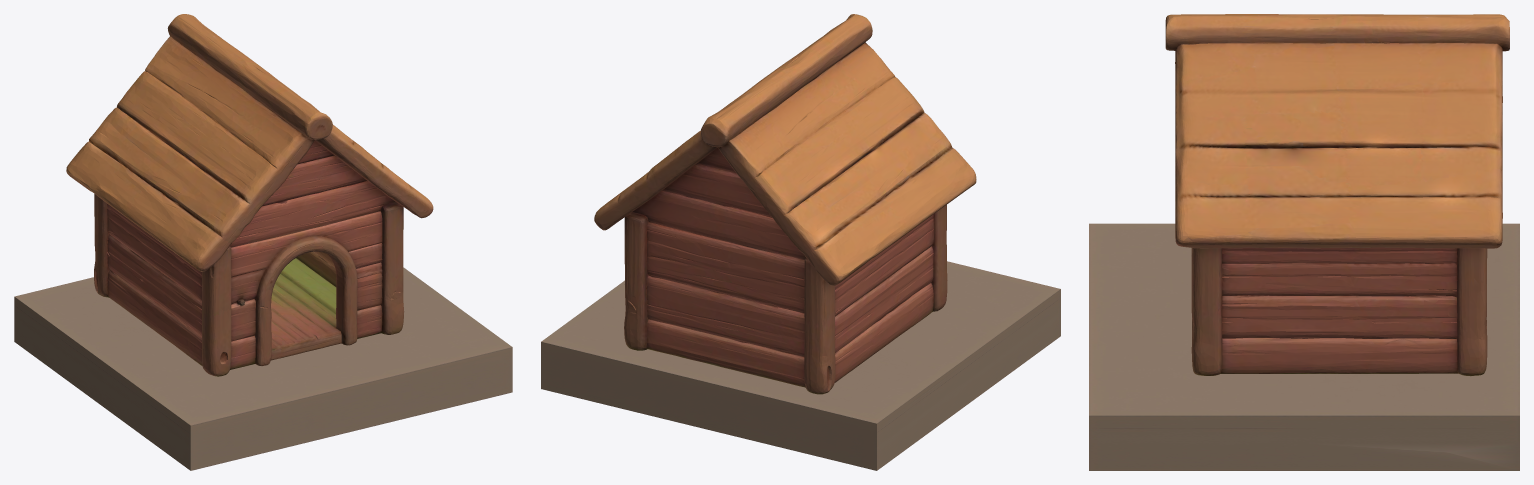
The model's file is DOM_budka_7__tuntun.glb.
3 views of the same model, side by side, from view 1: azimuth 30°, elevation 25°; view 2: azimuth 150°, elevation 25°; view 3: azimuth 270°, elevation 25° (orthographic). The views are drawn at different scales.
Parts seen in each view (by area): view 1: tripo_node_12152d5f-ba4f-4488-aab8-28f63a66d37c, Cube; view 2: tripo_node_12152d5f-ba4f-4488-aab8-28f63a66d37c, Cube; view 3: tripo_node_12152d5f-ba4f-4488-aab8-28f63a66d37c, Cube.
Part boxes in pixels (<box>): tripo_node_12152d5f-ba4f-4488-aab8-28f63a66d37c: <box>66,14,433,376</box>; Cube: <box>14,267,512,470</box>; tripo_node_12152d5f-ba4f-4488-aab8-28f63a66d37c: <box>594,14,976,394</box>; Cube: <box>541,261,1060,470</box>; tripo_node_12152d5f-ba4f-4488-aab8-28f63a66d37c: <box>1165,14,1509,376</box>; Cube: <box>1089,223,1519,470</box>.
Bounding box in the file's own units: 3.3 × 2.88 × 3.13.
2 materials, 2 textured.
